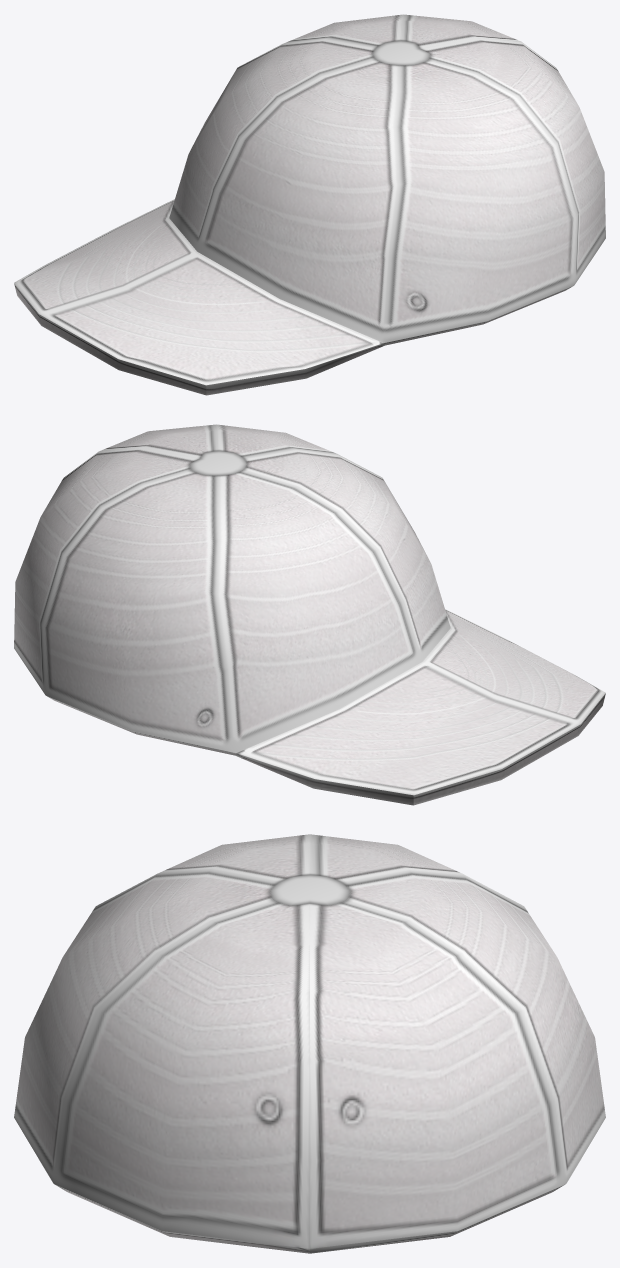
File: CapHat.FBX
3 renders of one model, top to bottom at view 1: azimuth 30°, elevation 25°; view 2: azimuth 150°, elevation 25°; view 3: azimuth 270°, elevation 25°, orthographic. The views are drawn at different scales.
Visible parts, largest first — view 1: Cylinder001; view 2: Cylinder001; view 3: Cylinder001.
Part boxes in pixels (x1,y1,x2,y2): Cylinder001: [14, 14, 605, 395]; Cylinder001: [14, 424, 605, 805]; Cylinder001: [14, 834, 605, 1253].
Bounding box in the file's own units: 156 × 60.54 × 111.
